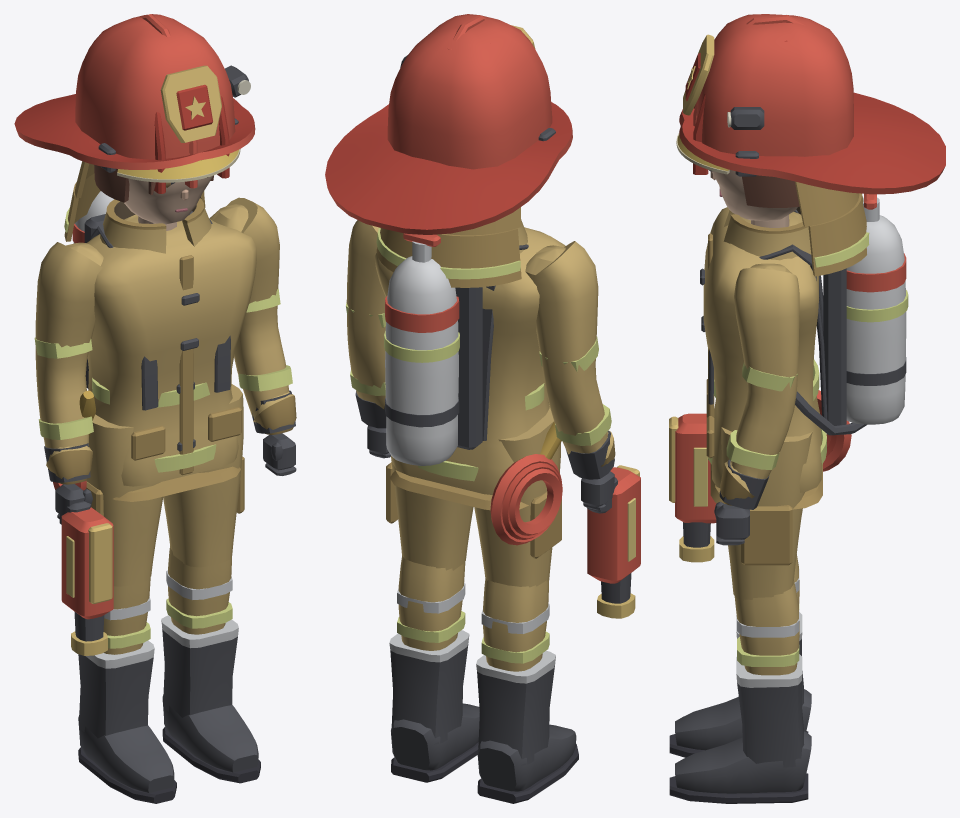
The model's file is jo_pompiere.glb.
The picture shows the model from 3 angles, left to right: view 1: azimuth 30°, elevation 25°; view 2: azimuth 150°, elevation 25°; view 3: azimuth 270°, elevation 25°; orthographic projection. The views are drawn at different scales.
Visible parts, largest first — view 1: torso, coiffe, arm_r, jambe_l, jambe_r, arm_l, leg_r, gun, leg_l, dos, col, shin_l (+11 smaller); view 2: coiffe, dos, torso, arm_r, jambe_r, jambe_l, arm_l, leg_r, gun, leg_l, coiffe_f2, shin_r (+8 smaller); view 3: coiffe, dos, torso, arm_l, jambe_l, leg_l, gun, jambe_r, shin_l, coiffe_f2, col, head (+7 smaller).
Boxes of the visible parts, <box> form: torso: <box>86,214,256,501</box>; coiffe: <box>14,14,255,193</box>; arm_r: <box>35,242,103,518</box>; jambe_l: <box>161,615,260,783</box>; jambe_r: <box>78,640,176,803</box>; arm_l: <box>209,197,296,475</box>; leg_r: <box>86,414,163,586</box>; gun: <box>59,501,113,655</box>; leg_l: <box>163,384,244,567</box>; dos: <box>53,191,230,490</box>; col: <box>100,198,211,253</box>; shin_l: <box>168,546,231,634</box>; coiffe: <box>325,14,572,234</box>; dos: <box>385,233,562,545</box>; torso: <box>374,227,565,510</box>; arm_r: <box>525,241,615,510</box>; jambe_r: <box>476,650,578,803</box>; jambe_l: <box>389,630,479,782</box>; arm_l: <box>346,220,390,458</box>; leg_r: <box>474,405,561,587</box>; gun: <box>586,465,640,618</box>; leg_l: <box>386,456,473,570</box>; coiffe_f2: <box>376,228,521,287</box>; shin_r: <box>483,578,548,671</box>; coiffe: <box>677,14,945,194</box>; dos: <box>708,193,906,471</box>; torso: <box>700,207,822,509</box>; arm_l: <box>714,263,799,545</box>; jambe_l: <box>669,654,811,803</box>; leg_l: <box>721,427,812,600</box>; gun: <box>669,413,716,562</box>; jambe_r: <box>669,612,811,757</box>; shin_l: <box>734,581,799,675</box>; coiffe_f2: <box>808,193,866,276</box>; col: <box>723,206,811,260</box>; head: <box>709,170,797,227</box>.
Bounding box in the file's own units: 0.445 × 1.29 × 0.4275.
